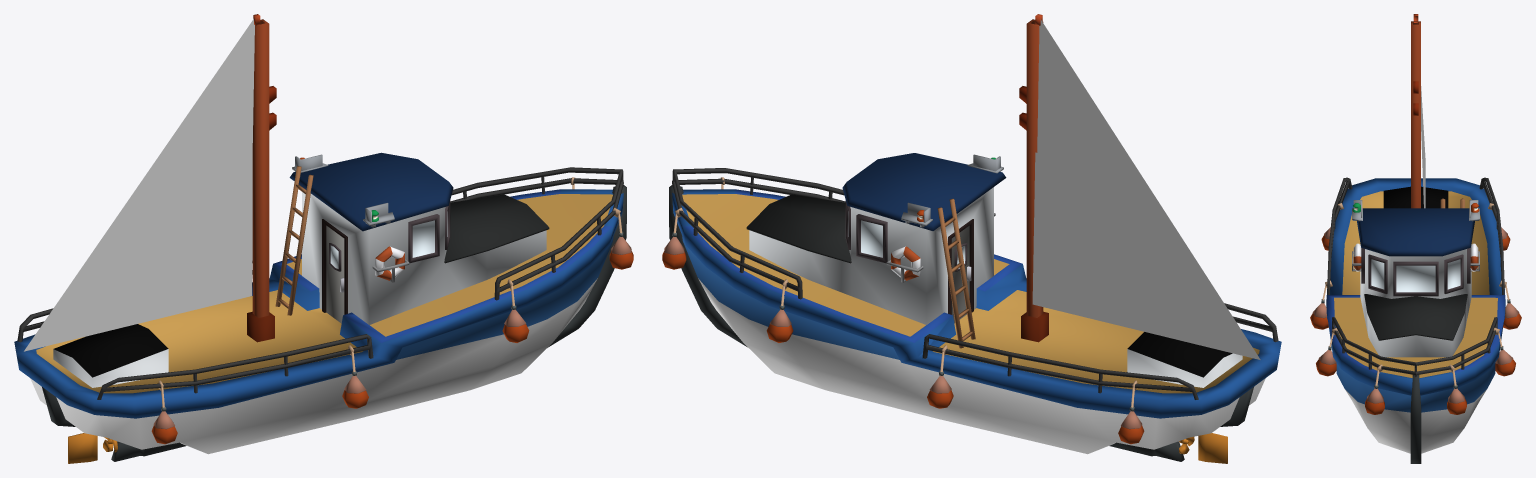
The model's file is boatWorking.fbx.
The picture shows the model from 3 angles, left to right: view 1: azimuth 30°, elevation 25°; view 2: azimuth 150°, elevation 25°; view 3: azimuth 270°, elevation 25°; orthographic projection. The views are drawn at different scales.
Visible parts, largest first — view 1: Fishing Boat Tuna, Plane.001; view 2: Fishing Boat Tuna, Plane.001; view 3: Fishing Boat Tuna, Plane.001.
Part boxes in pixels (bbox=[...]): Fishing Boat Tuna: bbox=[14, 14, 633, 463]; Plane.001: bbox=[24, 14, 256, 351]; Fishing Boat Tuna: bbox=[662, 14, 1281, 463]; Plane.001: bbox=[1032, 15, 1260, 359]; Fishing Boat Tuna: bbox=[1310, 14, 1521, 463]; Plane.001: bbox=[1421, 86, 1425, 208].
Bounding box in the file's own units: 1022 × 674 × 381.
